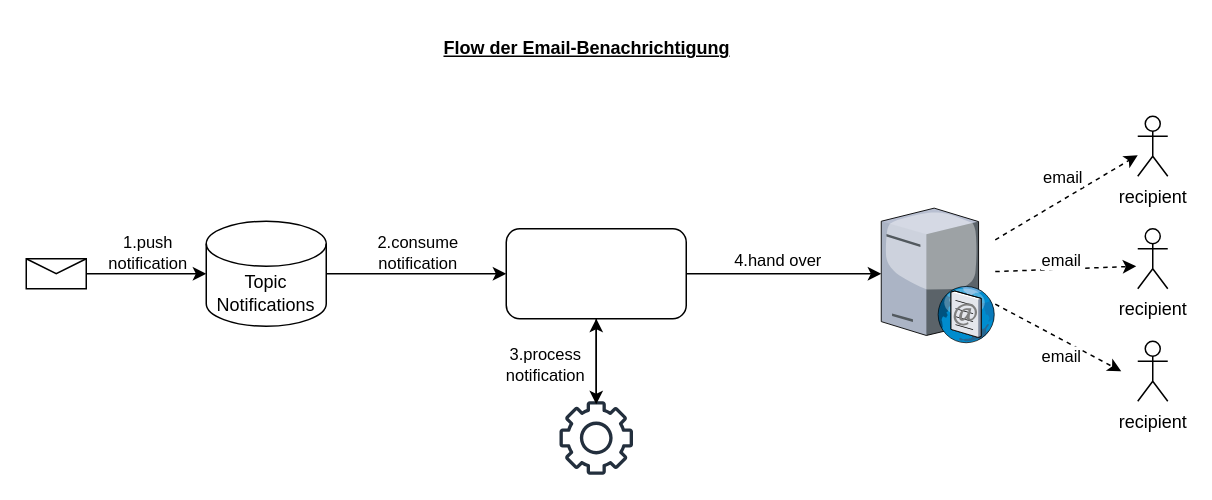
The diagram is 1212 pixels wide and 500 high, and some of its shapes have lost their labels. The shapes that lost their labels are listed below. From the top down, each one's centre as x and y in pixels, then its label:
At point 595,273: "Email-Consumer (Spring-Boot)".
At point 937,273: "SMTP Server".
